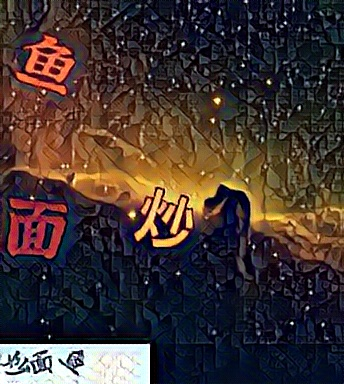B3B4: (134, 187, 194, 251)
C3E6: (8, 197, 68, 261)
D3E3: (15, 32, 75, 96)
